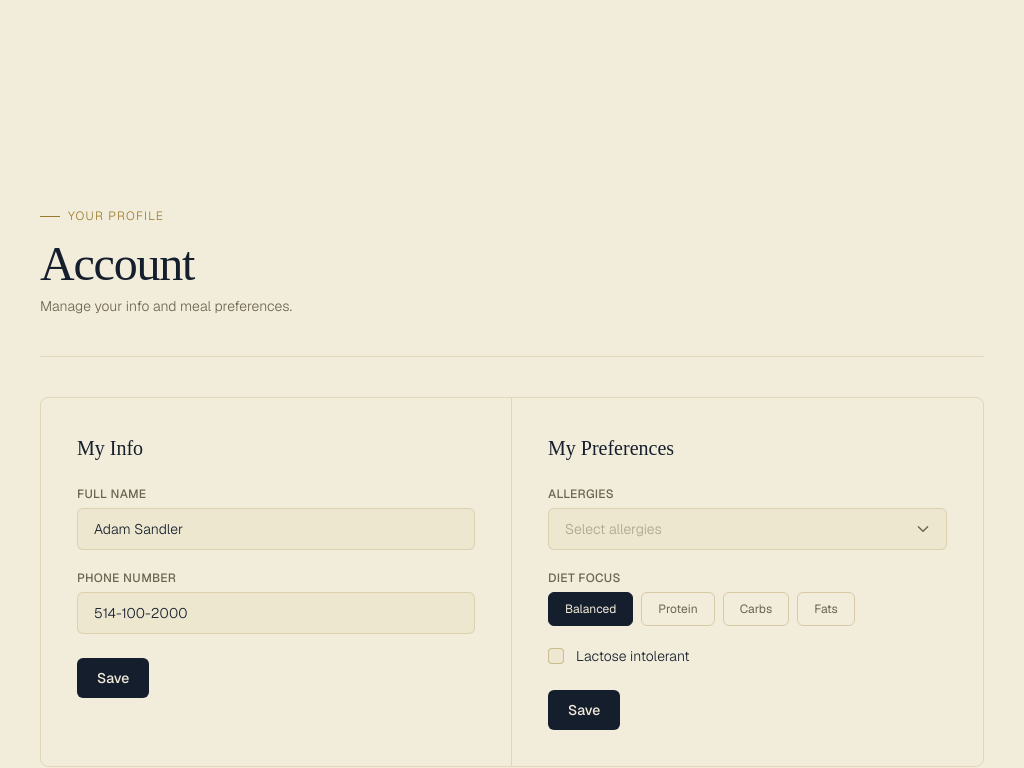
Scenario: AccountClient › shows Saved! after successful profile save
Click the button "Save" below "Phone number".
click(113, 678)  # box [77,658,149,698]
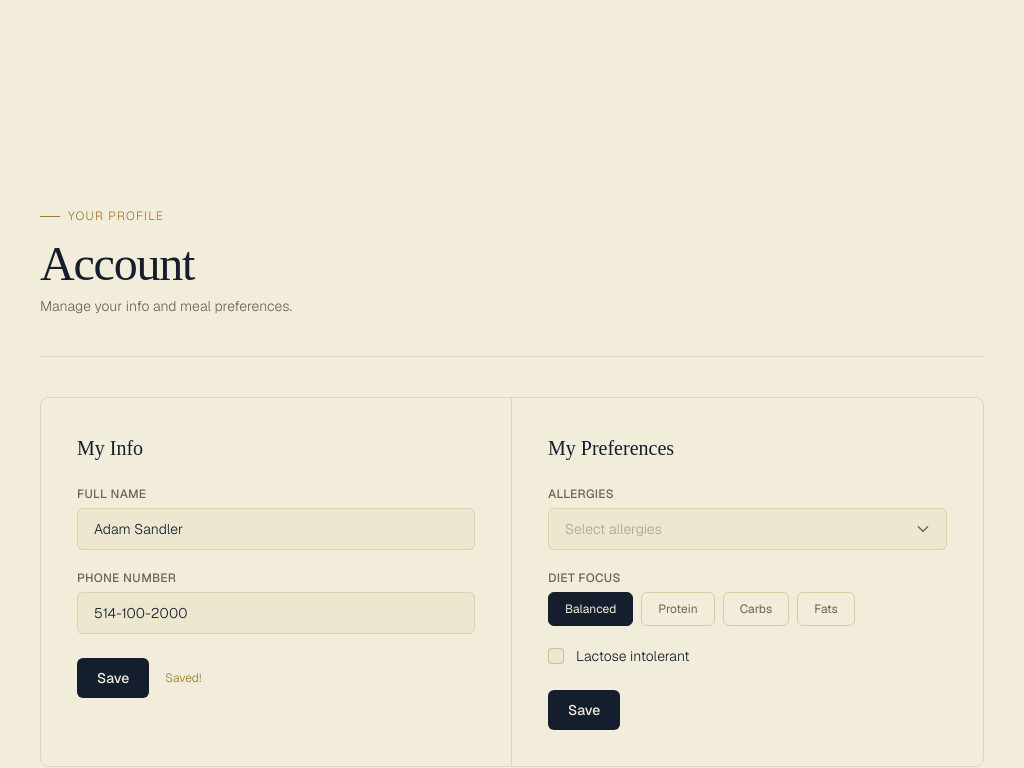
Expected: the text "Saved!" is shown, [165,670,201,686]
